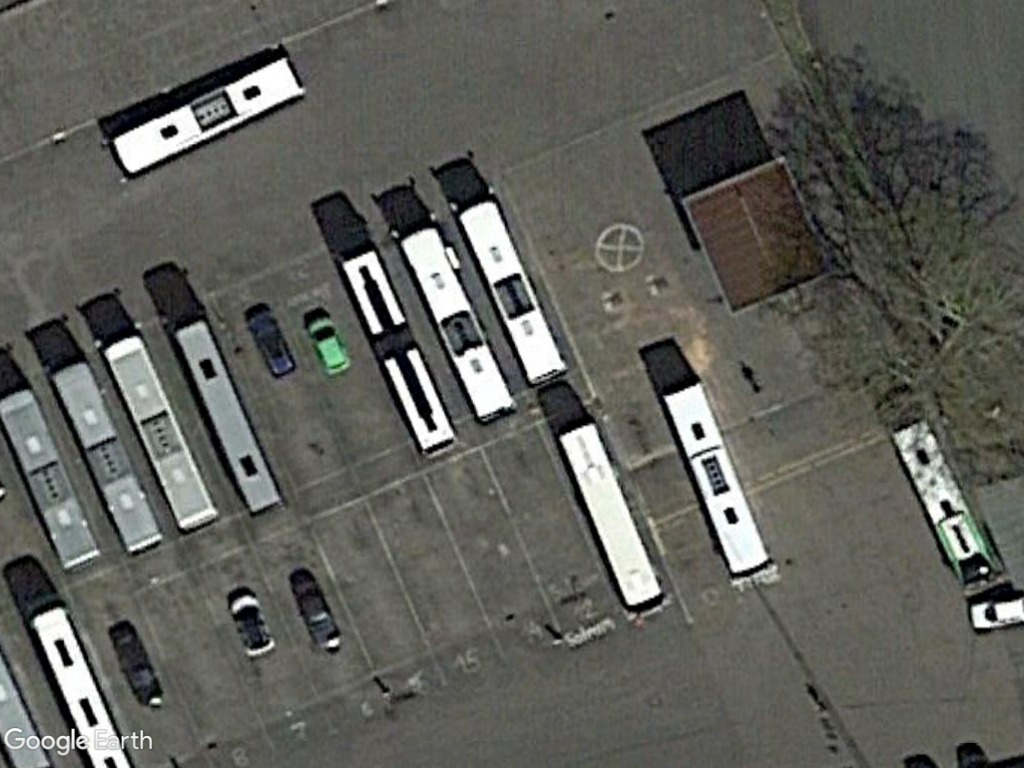bus: (335, 241, 458, 462), (106, 51, 304, 184), (96, 331, 221, 535), (395, 222, 517, 428), (657, 376, 774, 583), (49, 356, 166, 557), (552, 421, 668, 620), (169, 315, 283, 515), (453, 195, 569, 391), (884, 419, 1004, 591), (0, 384, 101, 569), (26, 605, 135, 768)
car: (302, 311, 351, 378)
